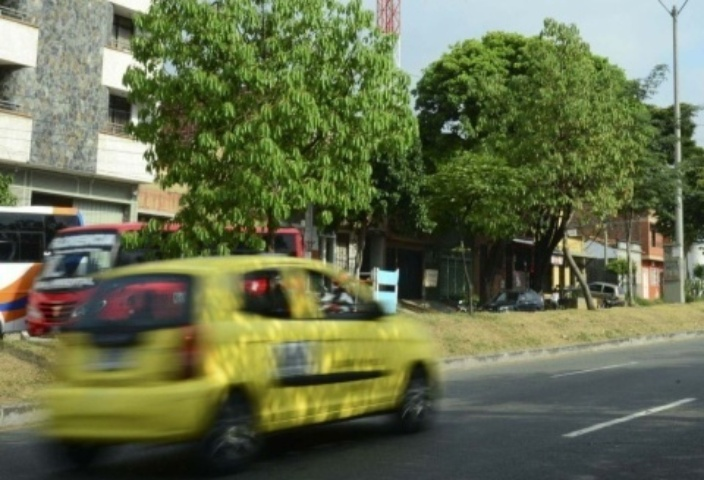bus: (34, 215, 330, 328)
car: (482, 277, 555, 326)
taxi: (41, 261, 444, 451)
